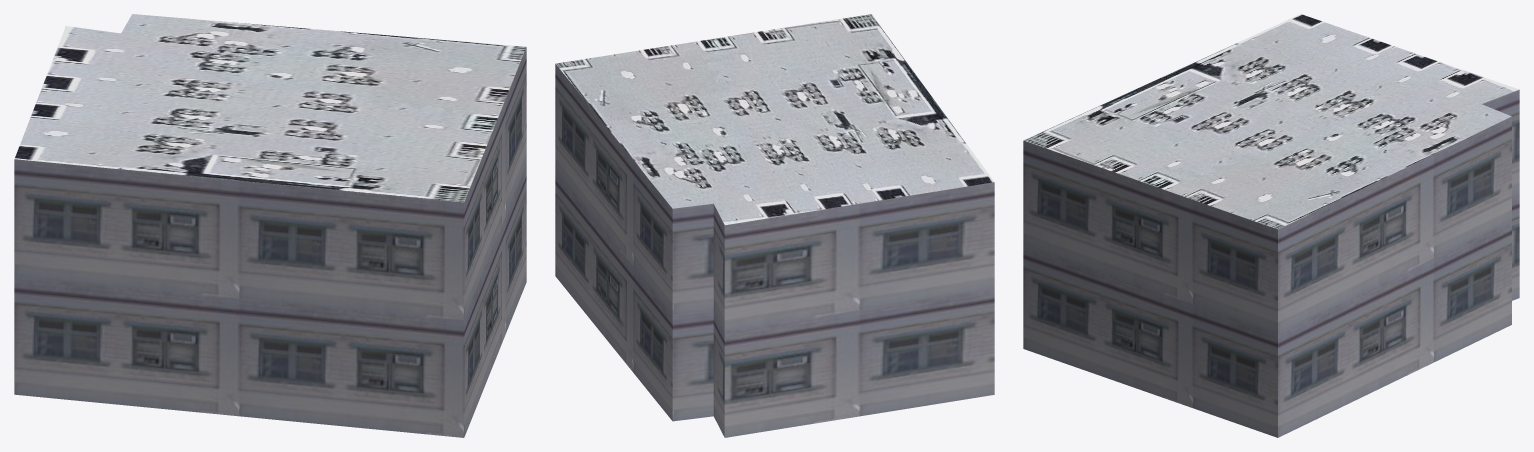
Rendered from ResTex__1185.fbx.
The picture shows the model from 3 angles, left to right: view 1: azimuth 30°, elevation 25°; view 2: azimuth 150°, elevation 25°; view 3: azimuth 270°, elevation 25°; orthographic projection. The views are drawn at different scales.
Visible parts, largest first — view 1: CityEngineMaterial_1_m, CityEngineMaterial_8_m; view 2: CityEngineMaterial_1_m, CityEngineMaterial_8_m; view 3: CityEngineMaterial_1_m, CityEngineMaterial_8_m.
Part boxes in pixels (left/top/right/bottom): CityEngineMaterial_1_m: left=14, top=47, right=526, bottom=437; CityEngineMaterial_8_m: left=14, top=14, right=526, bottom=202; CityEngineMaterial_1_m: left=555, top=64, right=994, bottom=437; CityEngineMaterial_8_m: left=556, top=14, right=994, bottom=225; CityEngineMaterial_1_m: left=1023, top=89, right=1519, bottom=437; CityEngineMaterial_8_m: left=1023, top=14, right=1518, bottom=229.
Size of the model in its own units: 13.31 by 6 by 12.95.
Materials: 2 (2 with a texture image).
